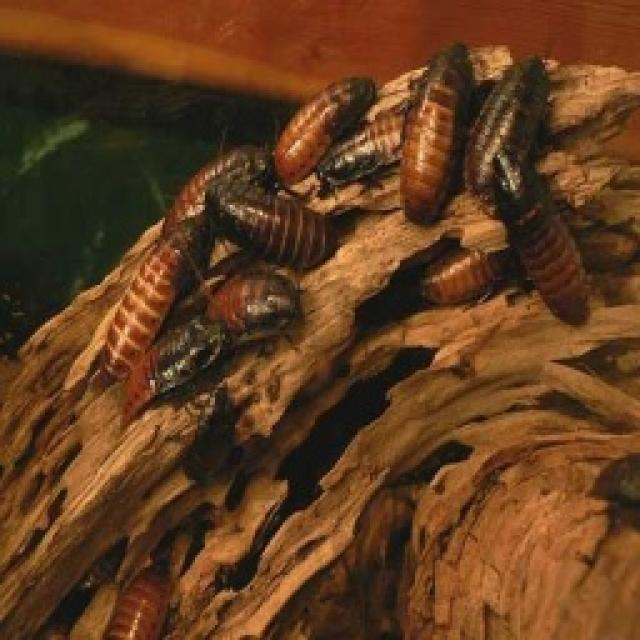cockroach: (469, 129, 592, 342), (376, 37, 496, 245), (89, 206, 213, 378), (454, 49, 564, 215), (124, 303, 250, 444), (206, 173, 338, 287), (244, 68, 370, 185), (182, 263, 332, 341), (95, 555, 179, 640)
